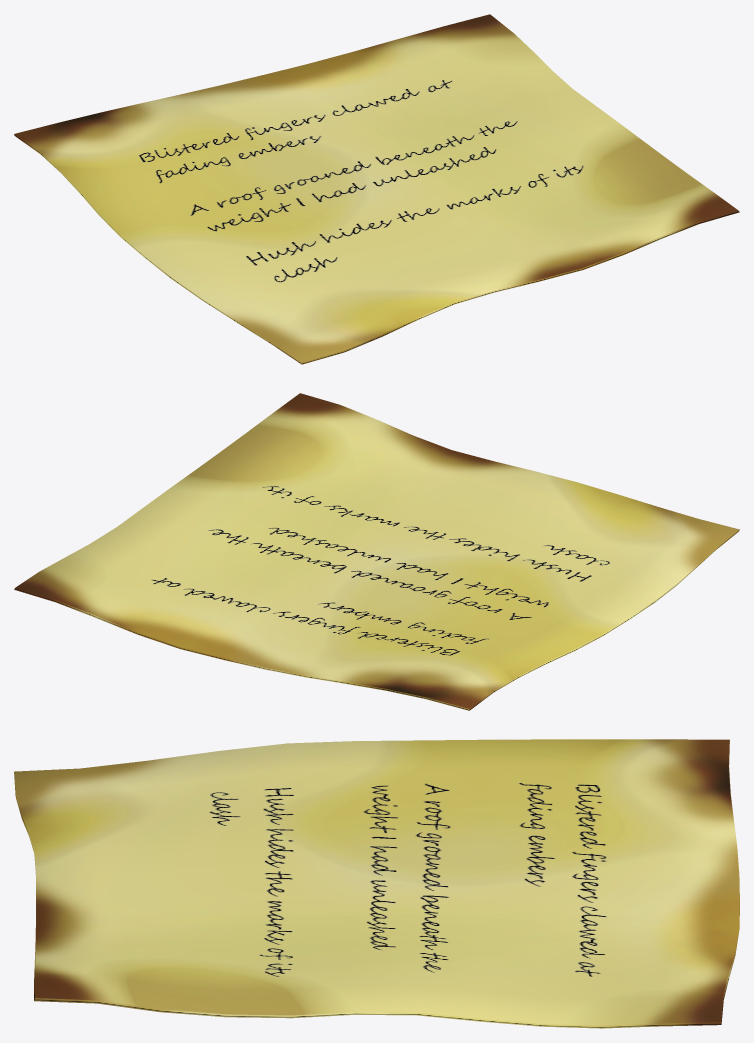
Rendered from Paper3.glb.
The picture shows the model from 3 angles, top to bottom: view 1: azimuth 30°, elevation 25°; view 2: azimuth 150°, elevation 25°; view 3: azimuth 270°, elevation 25°; orthographic projection. The views are drawn at different scales.
Parts seen in each view (by area): view 1: Plane; view 2: Plane; view 3: Plane.
Part boxes in pixels (x1,y1,x2,y2): Plane: [14, 14, 739, 364]; Plane: [14, 393, 739, 710]; Plane: [14, 739, 739, 1028].
Size of the model in its own units: 0.8607 by 0.0672 by 0.8722.
1 material, 1 textured.
